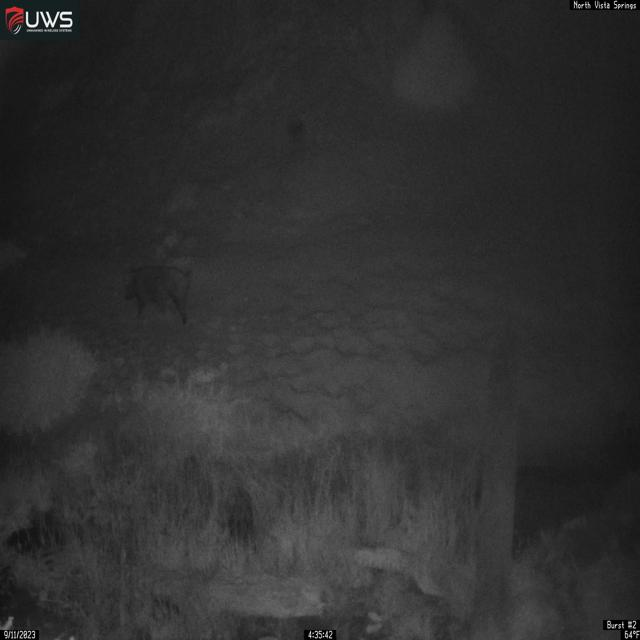pig: (123, 264, 193, 325)
